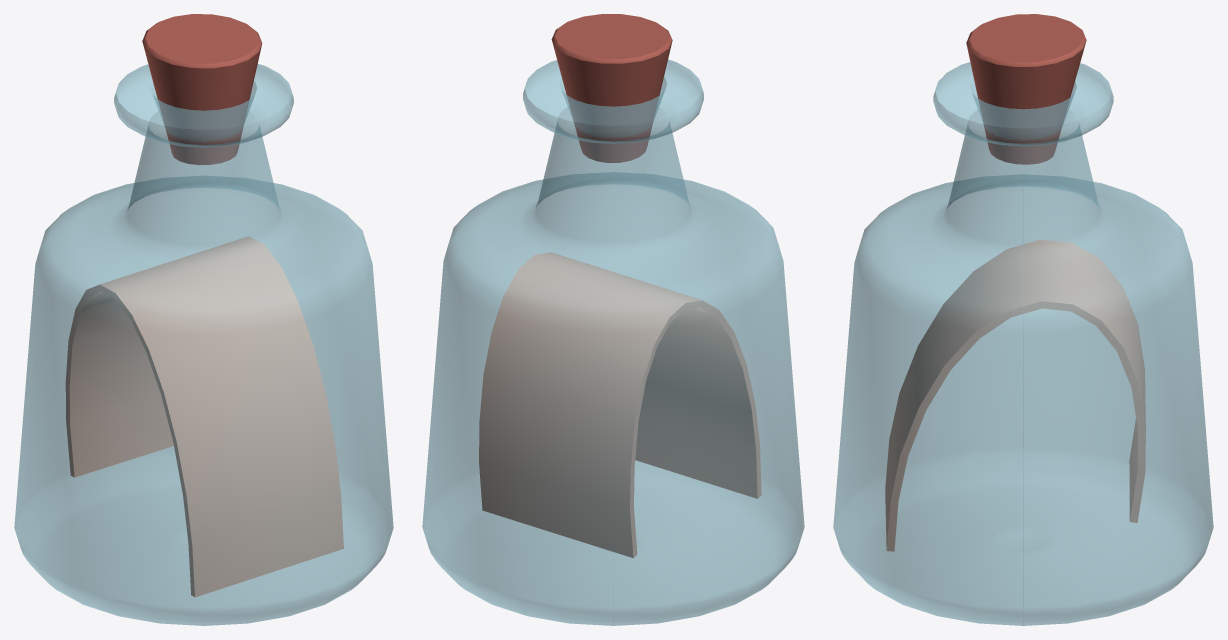
The model's file is BottleWithLetter2.fbx.
3 views of the same model, side by side, from view 1: azimuth 30°, elevation 25°; view 2: azimuth 150°, elevation 25°; view 3: azimuth 270°, elevation 25° (orthographic).
Visible parts, largest first — view 1: Bottle.001, Paper.001, Cap.001; view 2: Bottle.001, Paper.001, Cap.001; view 3: Bottle.001, Paper.001, Cap.001.
Part boxes in pixels (x1,y1,x2,y2): Bottle.001: [14, 64, 393, 625]; Paper.001: [65, 236, 343, 597]; Cap.001: [142, 14, 262, 165]; Bottle.001: [422, 59, 804, 625]; Paper.001: [479, 252, 761, 557]; Cap.001: [551, 14, 672, 162]; Bottle.001: [833, 62, 1213, 625]; Paper.001: [885, 239, 1145, 551]; Cap.001: [966, 14, 1086, 164].
Bounding box in the file's own units: 96.5 × 145 × 96.5.
